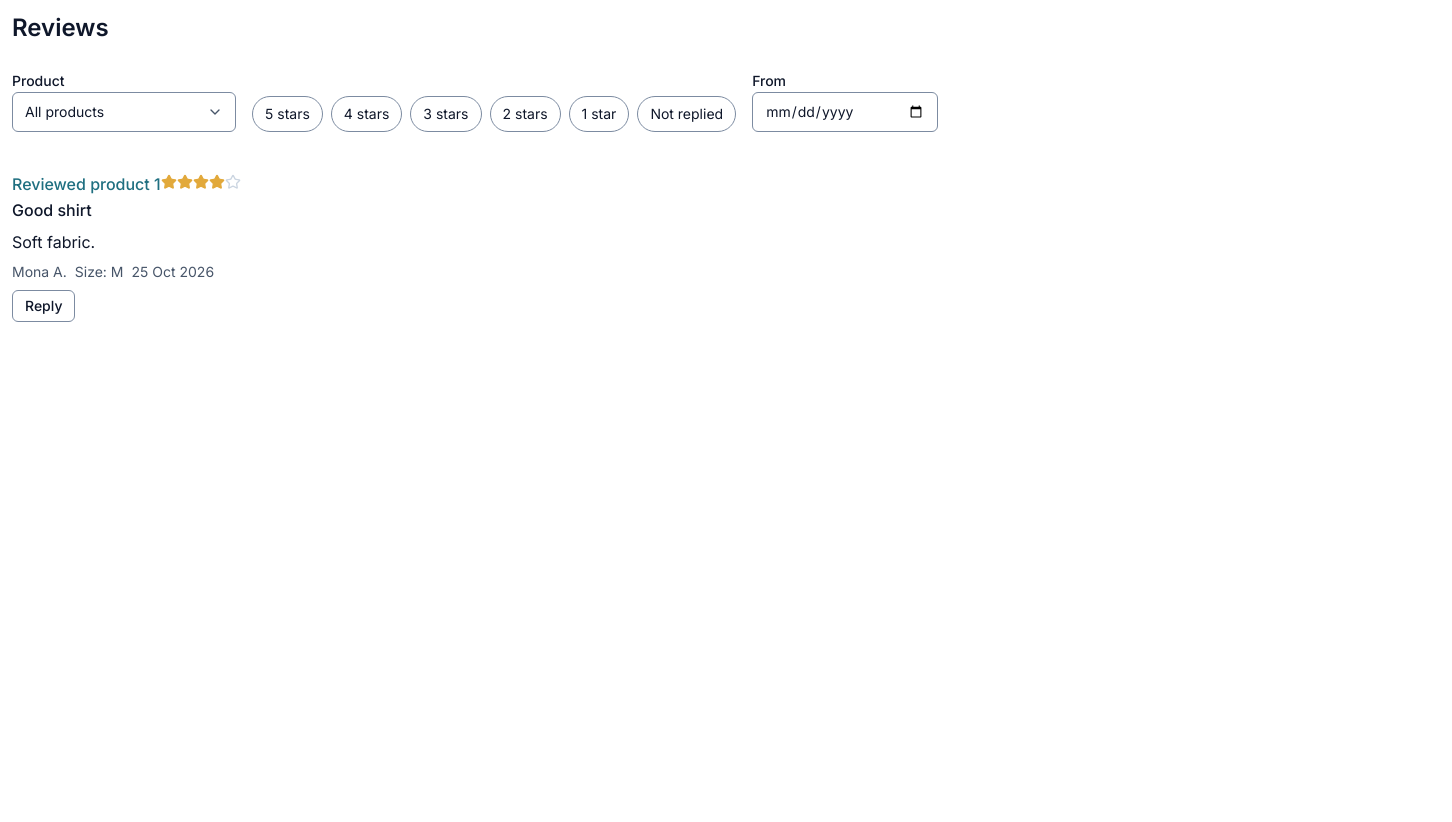
it: reviews list (spec 02 SE-20) › Reply: once, trimmed; the answer replaces the review
This screenshot has width=1452, height=822.
Click the button with aria-label "Reply to Mona A." at x=44, y=306, box [12, 290, 75, 322]
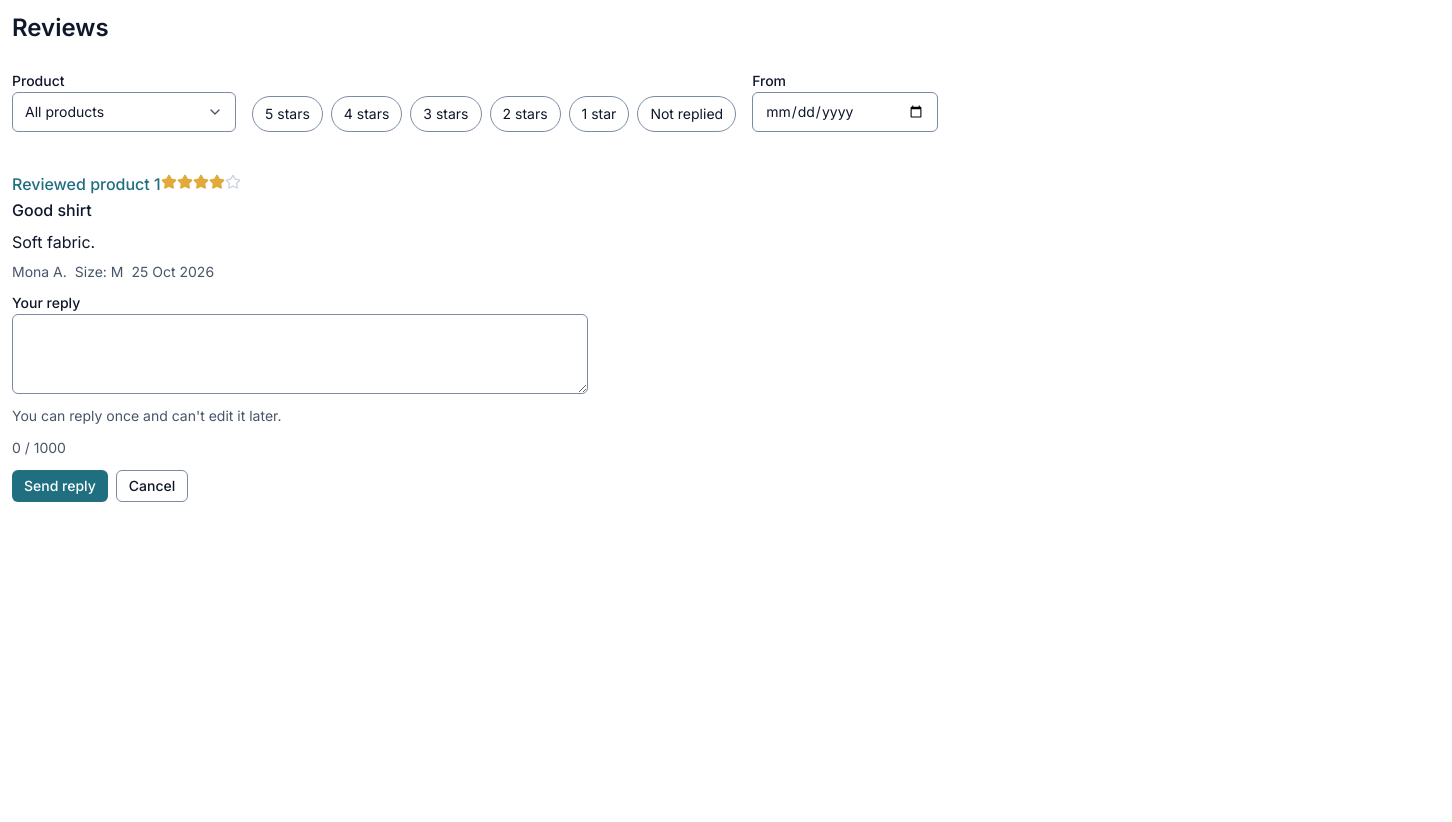
Check: the text "You can reply once and can't edit it later." is shown, box [12, 407, 282, 424]
Type "  Thanks!  " into the text box labelled "Your reply" at x=300, y=354, box [12, 314, 588, 394]
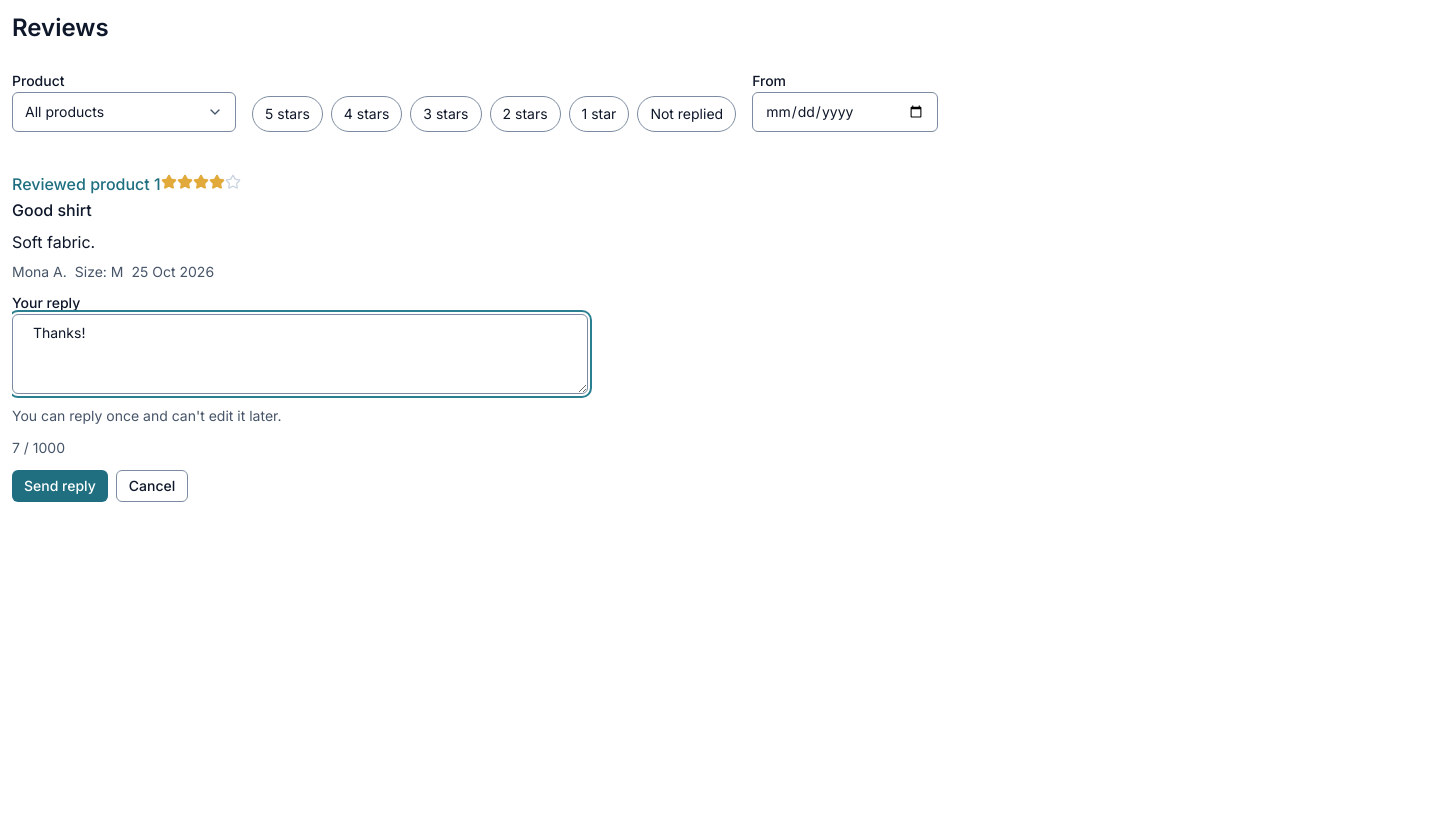
Click the button "Send reply" at x=60, y=486, box [12, 470, 108, 502]
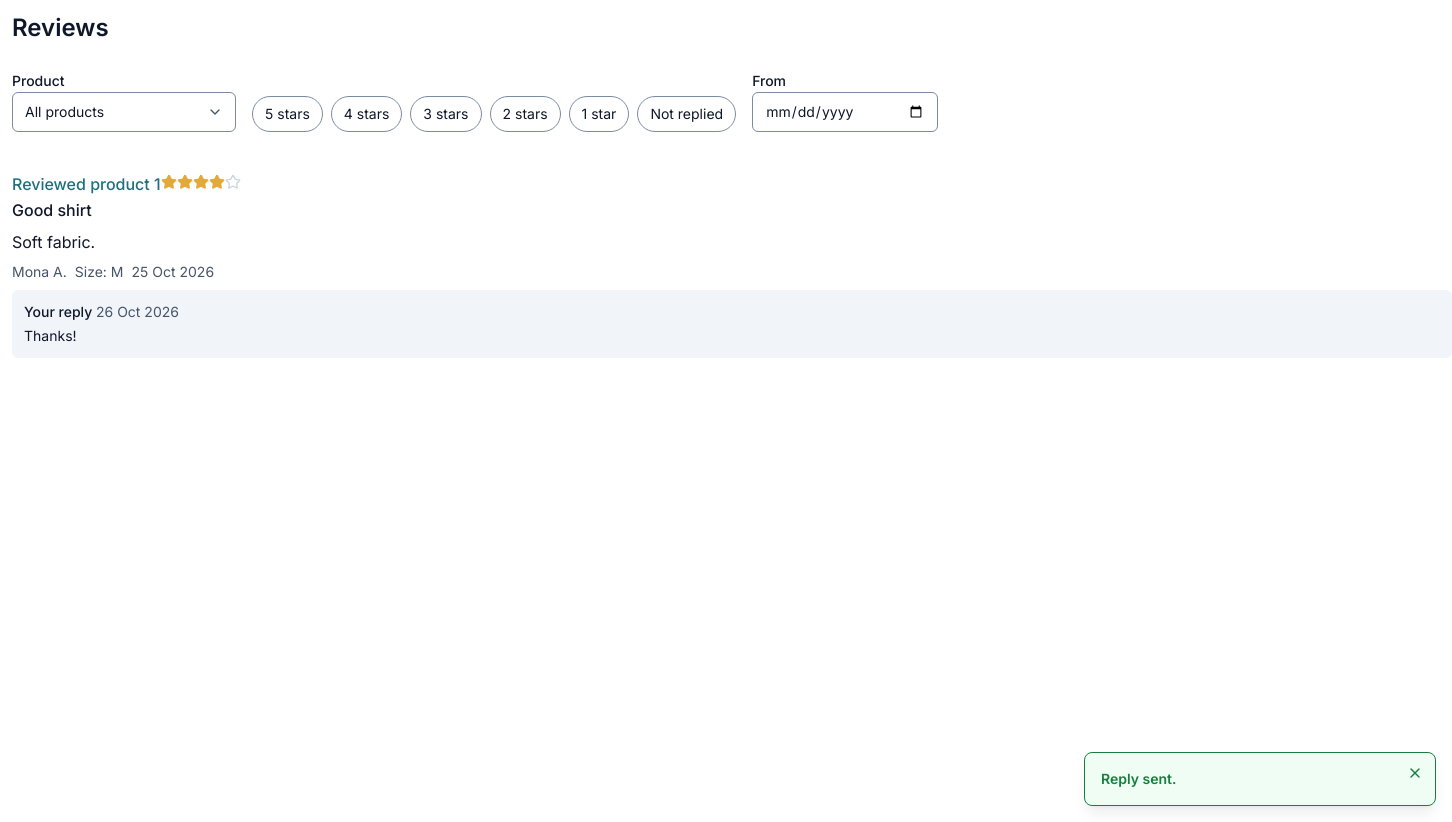
Check: the text "Reply sent." is shown, box [1101, 770, 1176, 787]
Check: the text "Thanks!" is shown, box [24, 327, 77, 344]
